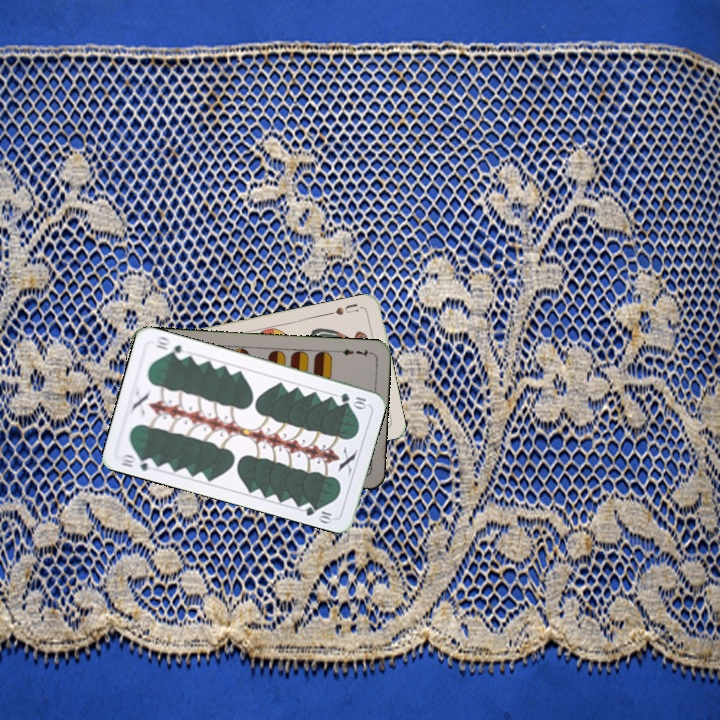E7: (334, 345, 374, 359)
G10: (116, 450, 158, 474), (336, 389, 369, 410)
SU: (325, 299, 361, 318)
